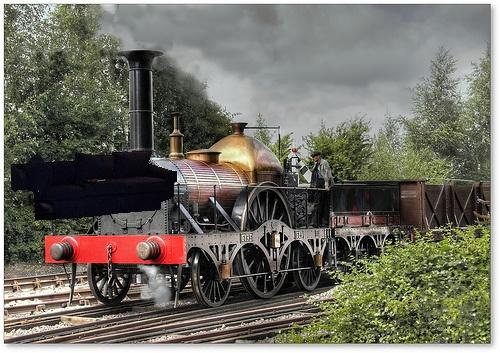tampered: (12, 152, 177, 220)
